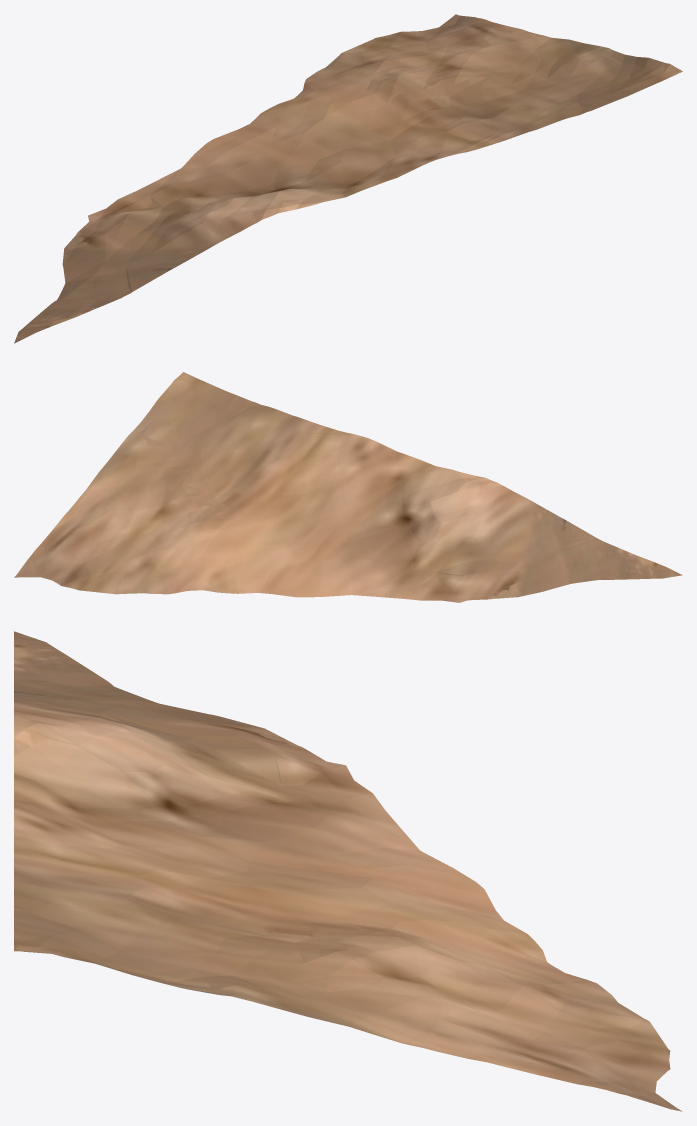
3 renders of one model, top to bottom at view 1: azimuth 30°, elevation 25°; view 2: azimuth 150°, elevation 25°; view 3: azimuth 270°, elevation 25°, orthographic. The views are drawn at different scales.
Size of the model in its own units: 0.7064 by 0.11 by 0.4156.
1 material, 1 textured.
